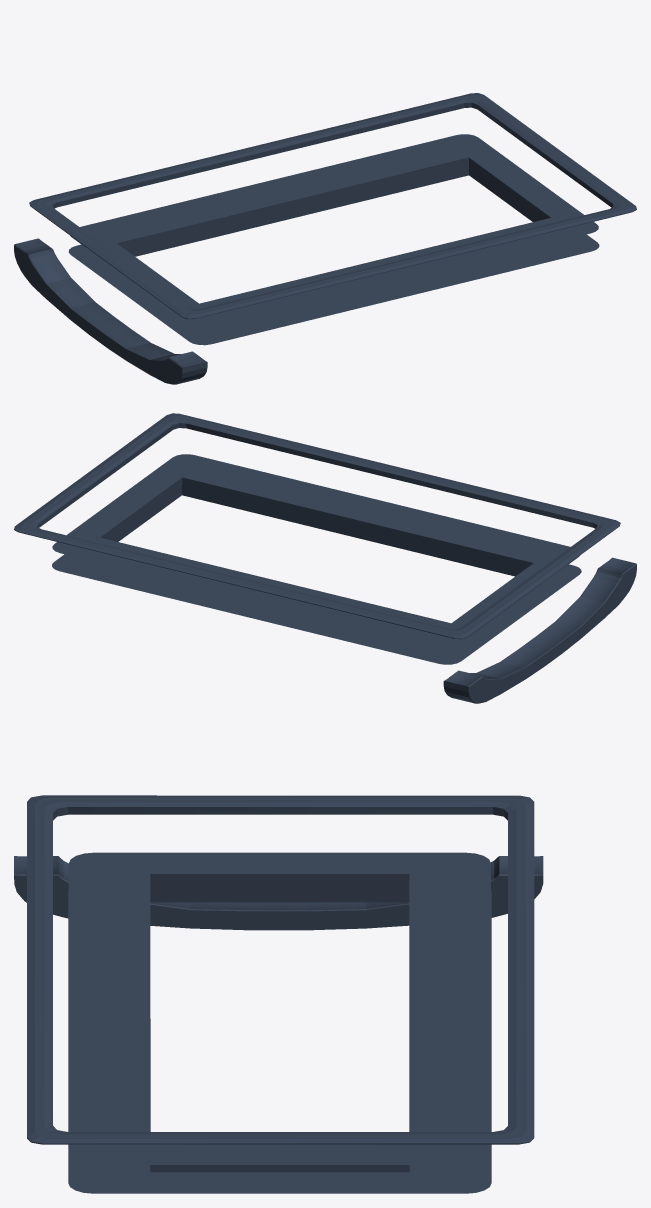
File: DoormeshMicrowaveDoorB6_1_GeomSubset_1.obj
3 views of the same model, one above another, from view 1: azimuth 30°, elevation 25°; view 2: azimuth 150°, elevation 25°; view 3: azimuth 270°, elevation 25° (orthographic). The views are drawn at different scales.
Visible parts, largest first — view 1: DoormeshMicrowaveDoorB6_1_GeomSubset_1; view 2: DoormeshMicrowaveDoorB6_1_GeomSubset_1; view 3: DoormeshMicrowaveDoorB6_1_GeomSubset_1.
Boxes of the visible parts, x1,y1,x2,y2 form: DoormeshMicrowaveDoorB6_1_GeomSubset_1: [14, 93, 636, 384]; DoormeshMicrowaveDoorB6_1_GeomSubset_1: [14, 413, 636, 703]; DoormeshMicrowaveDoorB6_1_GeomSubset_1: [14, 795, 543, 1193].
Size of the model in its own units: 0.4588 by 0.1903 by 0.3408.
